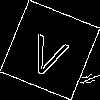V: (24, 25, 74, 80)
